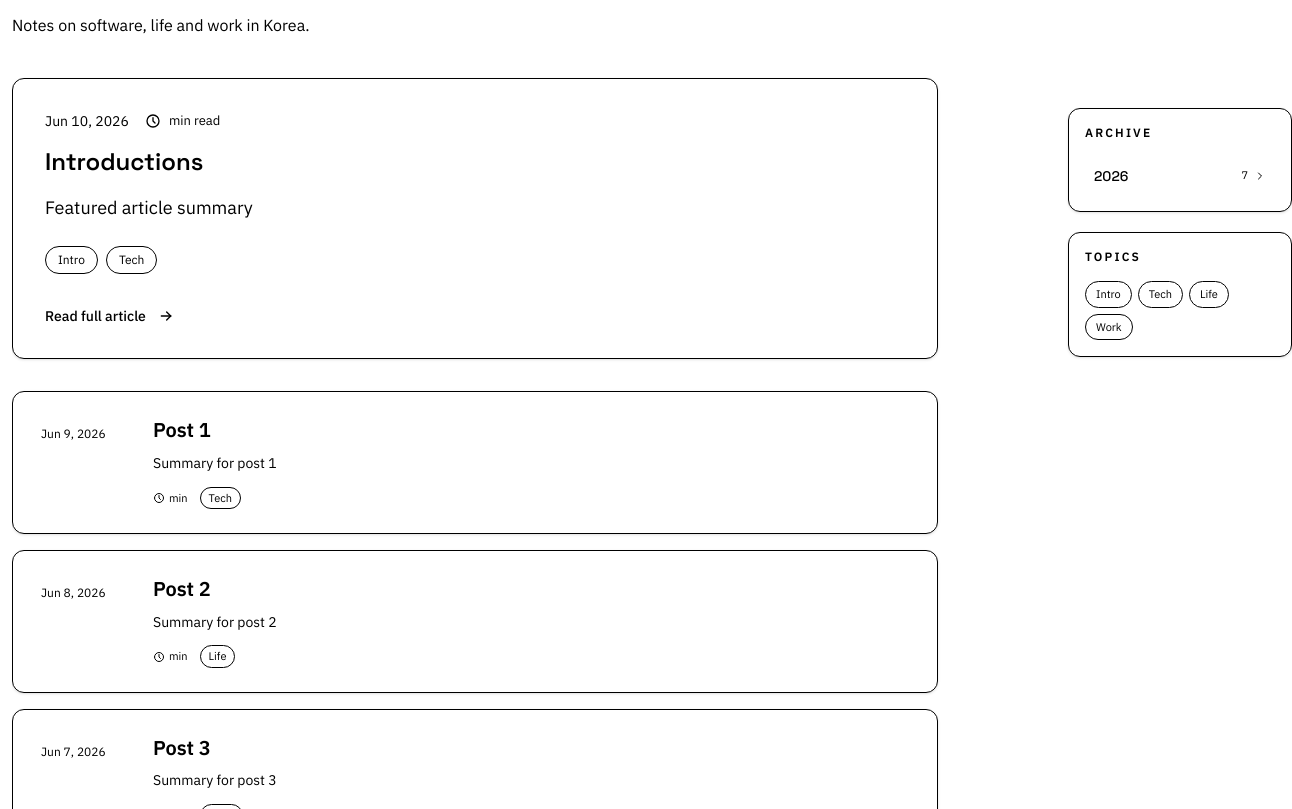
Test case: BlogPageClient › filters posts by tag when a tag is selected
select the "Life" tag
Click the button "Life" at (1209, 294), box [1189, 281, 1229, 308]
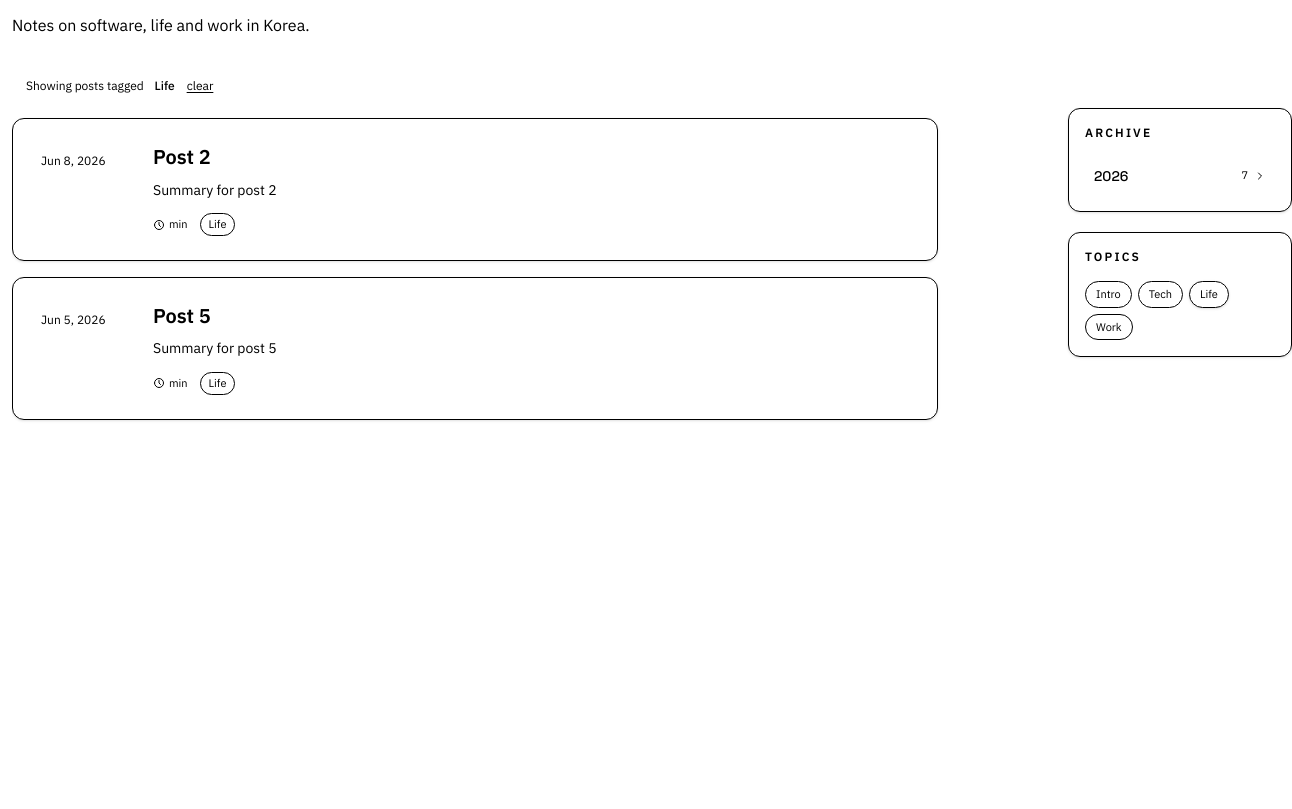
Now the text "Showing posts tagged" is shown, box [26, 78, 147, 93]
Now the link "Introductions" is gone
Now the link "Featured article summary" is gone
